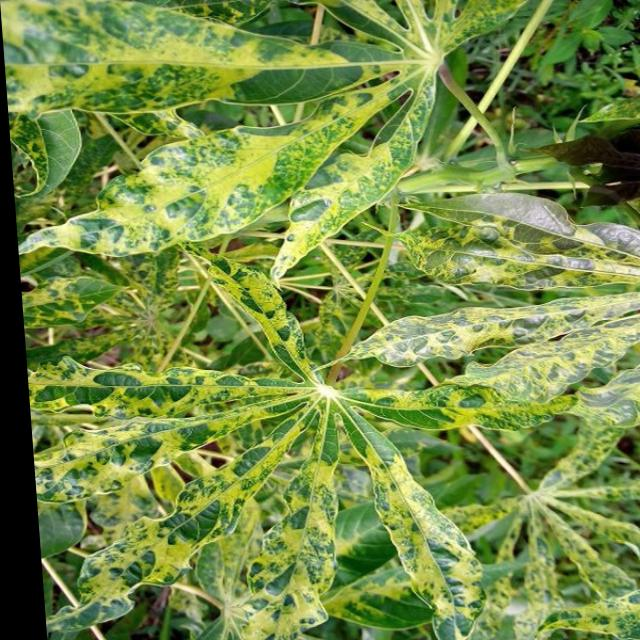Mosaico: (0, 0, 496, 269), (94, 265, 466, 523), (454, 170, 640, 492), (404, 456, 640, 640)
